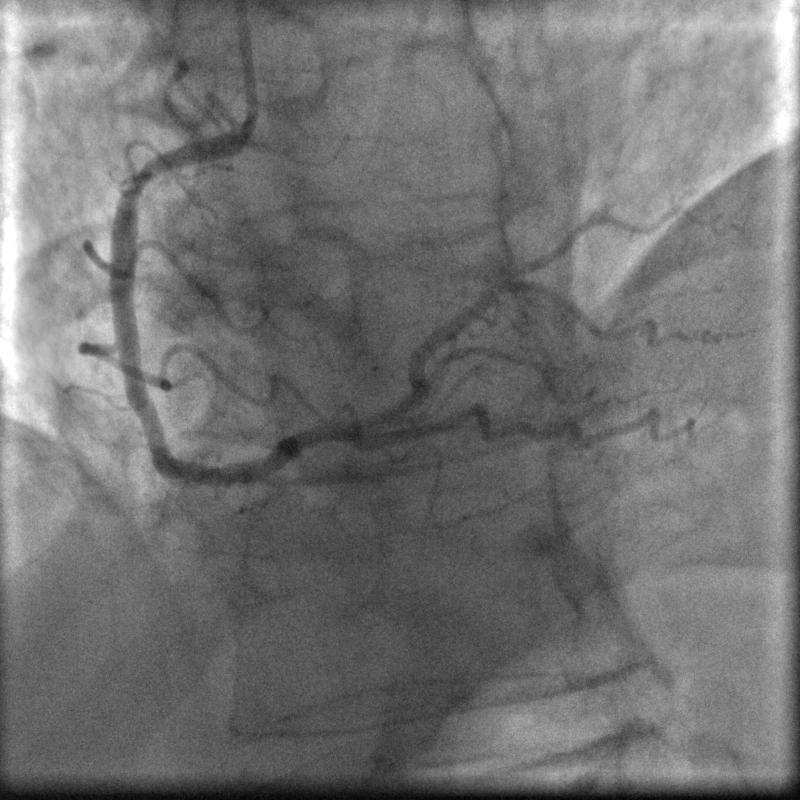Stenosis: (118, 156, 153, 194)
